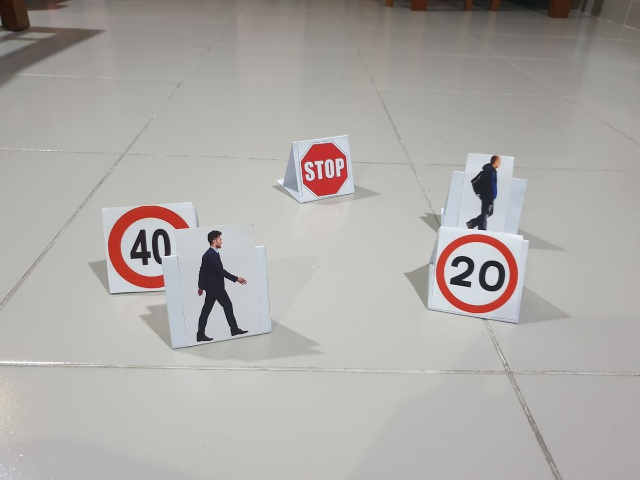Limit 20: (440, 231, 520, 318)
Limit 40: (105, 210, 189, 285)
Person: (189, 229, 251, 340), (465, 150, 505, 229)
Stop: (295, 139, 350, 196)
